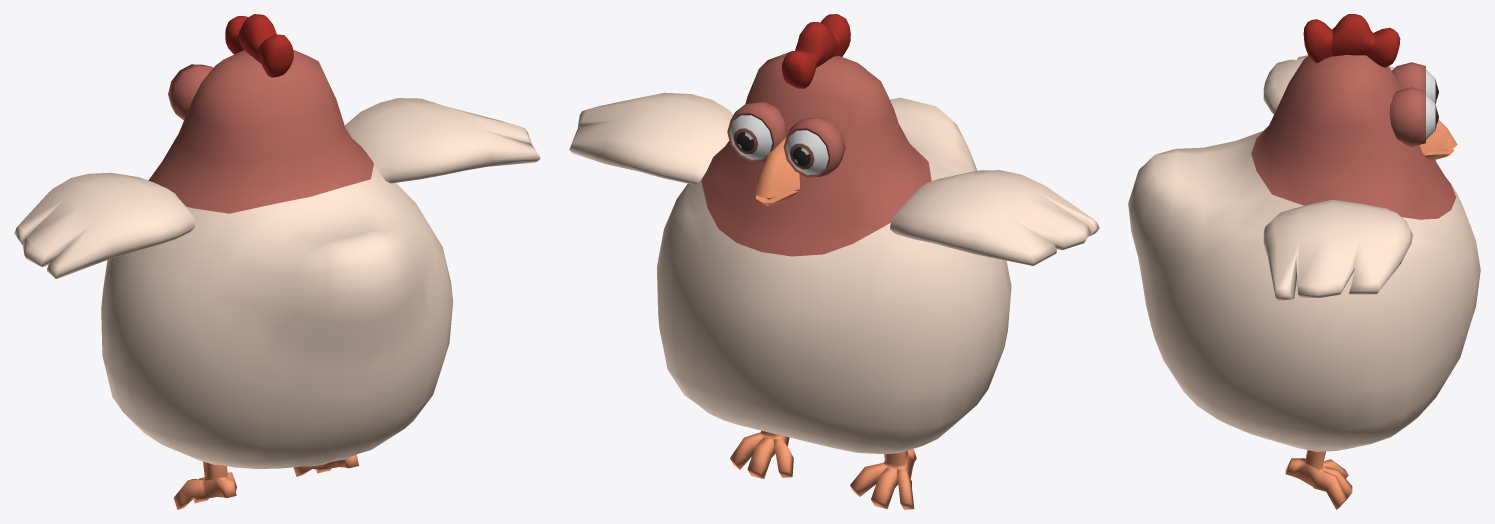
File: Hen.FBX
3 renders of one model, left to right at view 1: azimuth 30°, elevation 25°; view 2: azimuth 150°, elevation 25°; view 3: azimuth 270°, elevation 25°, orthographic. The views are drawn at different scales.
Visible parts, largest first — view 1: Box024, Plane002, Plane003, Plane001, Box026, Sphere009; view 2: Box024, Plane002, Plane003, Box026, Plane001, Sphere009, Sphere010, Box025; view 3: Box024, Plane003, Plane001, Sphere010, Box026, Plane002, Sphere009, Box025.
Part boxes in pixels (x1,y1,x2,y2): Box024: (101, 50, 453, 468); Plane002: (14, 172, 194, 278); Plane003: (345, 98, 540, 183); Plane001: (225, 14, 293, 77); Box026: (174, 454, 358, 509); Sphere009: (168, 64, 213, 120); Box024: (657, 52, 1011, 454); Plane002: (890, 170, 1099, 265); Plane003: (569, 92, 733, 185); Box026: (730, 430, 916, 509); Plane001: (781, 14, 850, 88); Sphere009: (783, 117, 845, 177); Sphere010: (727, 102, 785, 162); Box025: (754, 138, 799, 205); Box024: (1128, 55, 1480, 451); Plane003: (1263, 199, 1412, 300); Plane001: (1303, 14, 1400, 67); Sphere010: (1389, 87, 1438, 146); Box026: (1285, 450, 1352, 509); Plane002: (1263, 55, 1394, 114); Sphere009: (1392, 62, 1438, 103); Box025: (1420, 119, 1457, 160).
Bounding box in the file's own units: 156 × 139 × 97.66.
